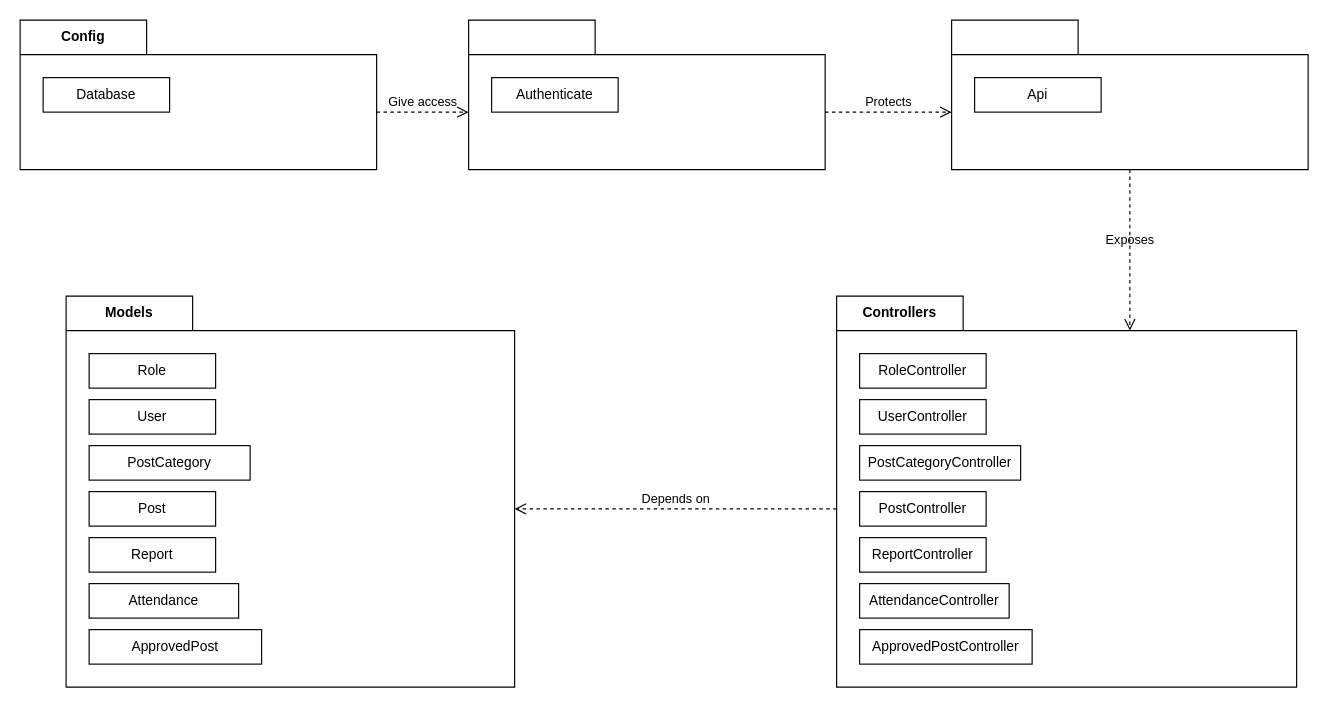
Image size: 1328x707. Some labels were removed from this diagram. Each missing label, with the centre of its shape:
Middleware: pixel 646 94
Routes: pixel 1129 94
